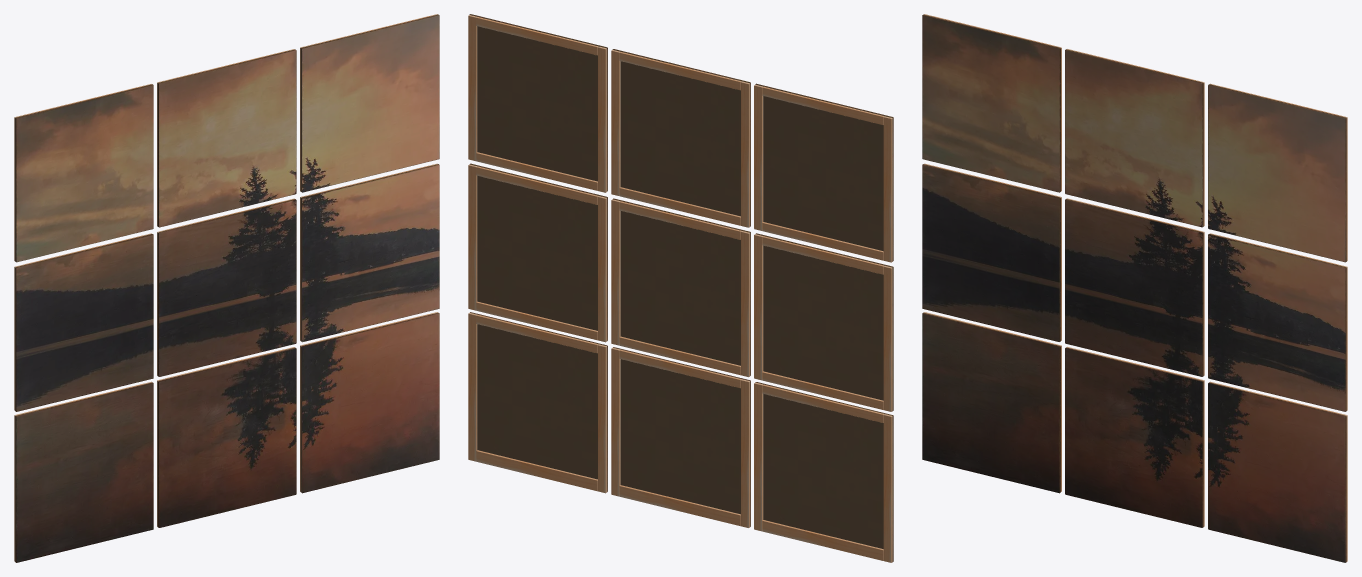
The model's file is abo-B073P648NJ.glb.
3 renders of one model, left to right at view 1: azimuth 30°, elevation 25°; view 2: azimuth 150°, elevation 25°; view 3: azimuth 330°, elevation 25°, orthographic.
Bounding box in the file's own units: 1.52 × 1.52 × 0.013.
Materials: 1 (1 with a texture image).
